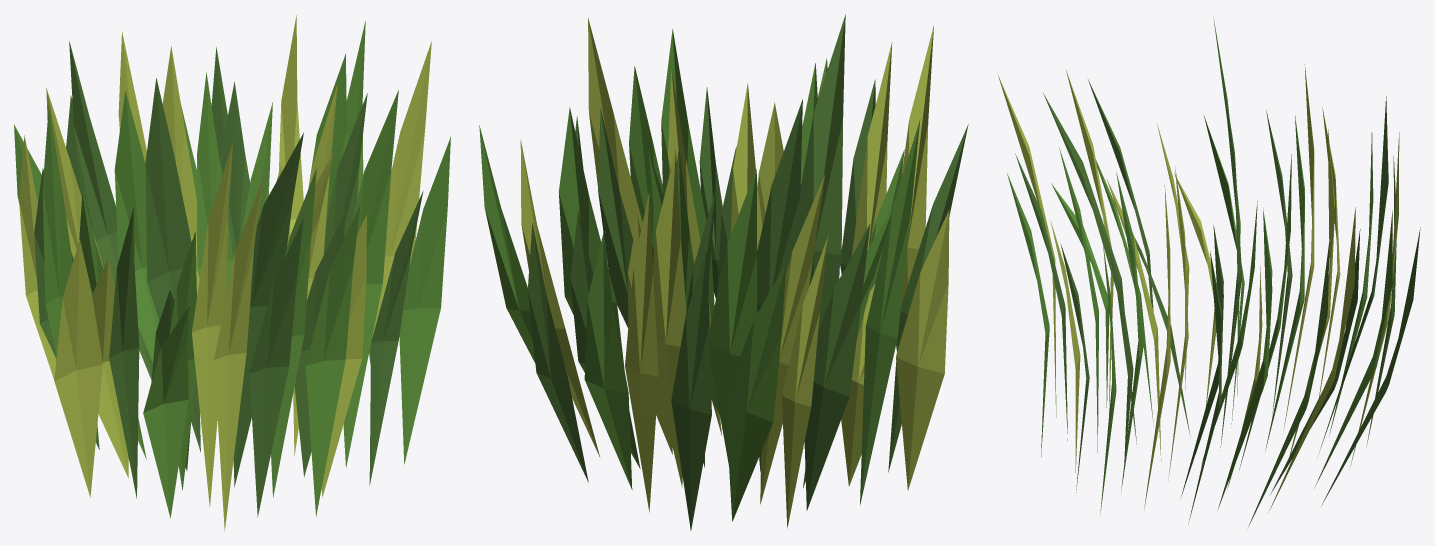
File: EncounterGrass.glb
3 renders of one model, left to right at view 1: azimuth 30°, elevation 25°; view 2: azimuth 150°, elevation 25°; view 3: azimuth 270°, elevation 25°, orthographic. The views are drawn at different scales.
Visible parts, largest first — view 1: EncounterGrass; view 2: EncounterGrass; view 3: EncounterGrass.
Boxes of the visible parts, box(x1,y1,x2,y2) form: EncounterGrass: box(14, 15, 450, 531); EncounterGrass: box(479, 14, 968, 530); EncounterGrass: box(998, 18, 1420, 528).
Size of the model in its own units: 1.2 by 1.15 by 1.2.
